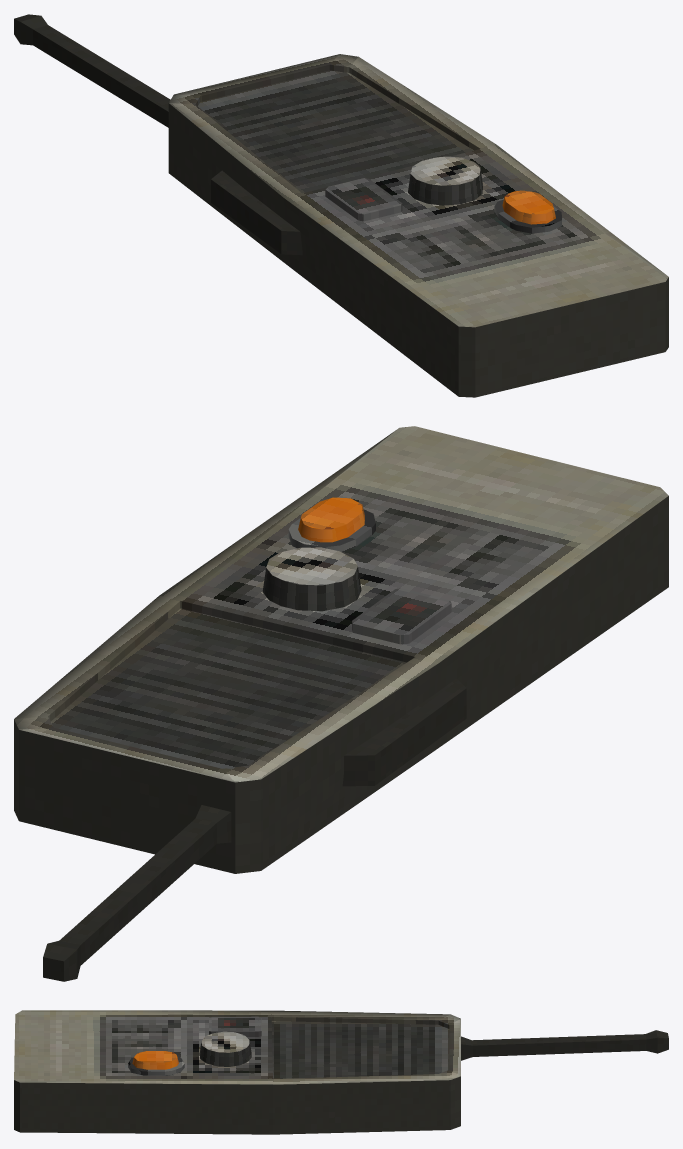
Rendered from walkie_talkie_1.glb.
3 renders of one model, top to bottom at view 1: azimuth 30°, elevation 25°; view 2: azimuth 150°, elevation 25°; view 3: azimuth 270°, elevation 25°, orthographic. The views are drawn at different scales.
Visible parts, largest first — view 1: walkie_talkie_1; view 2: walkie_talkie_1; view 3: walkie_talkie_1.
Boxes of the visible parts, bbox=[...] form: walkie_talkie_1: bbox=[14, 14, 668, 397]; walkie_talkie_1: bbox=[14, 426, 668, 981]; walkie_talkie_1: bbox=[14, 1010, 668, 1134].
Bounding box in the file's own units: 0.1009 × 0.038 × 0.3569.
Materials: 1 (1 with a texture image).
